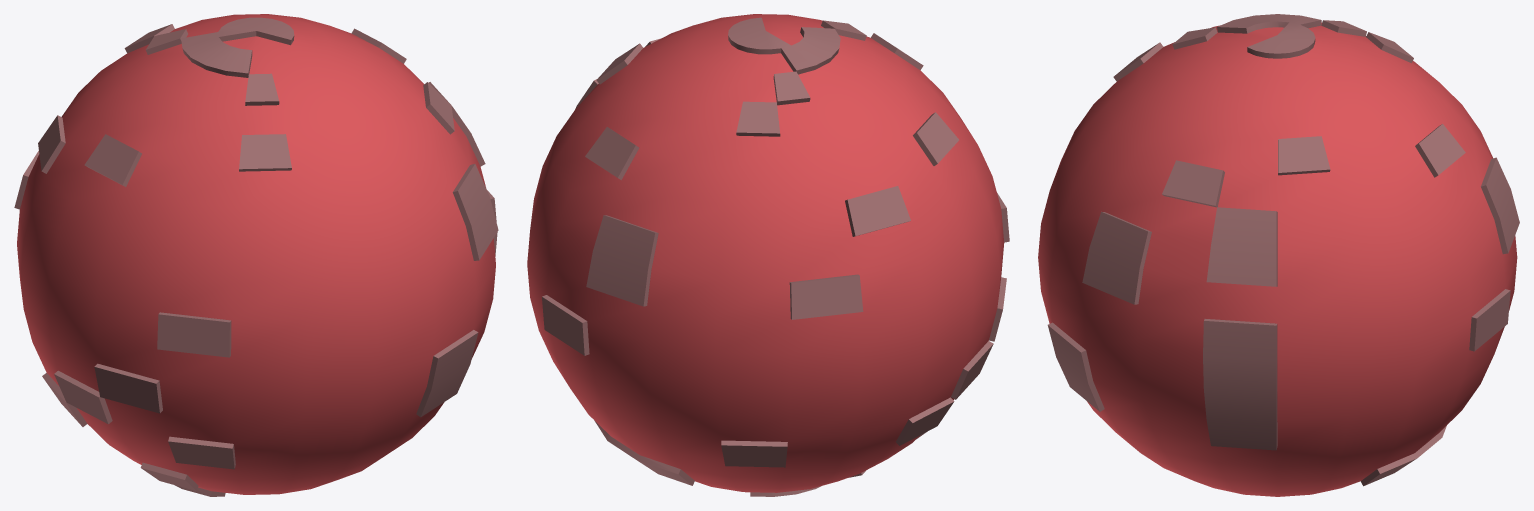
Rendered from Upper_Mantle_Icon_v01.fbx.
3 renders of one model, left to right at view 1: azimuth 30°, elevation 25°; view 2: azimuth 150°, elevation 25°; view 3: azimuth 270°, elevation 25°, orthographic.
Visible parts, largest first — view 1: Up_mantle_1; view 2: Up_mantle_1; view 3: Up_mantle_1.
Boxes of the visible parts, <box> form: Up_mantle_1: <box>14,14,498,496</box>; Up_mantle_1: <box>527,14,1009,496</box>; Up_mantle_1: <box>1038,14,1519,496</box>.
Size of the model in its own units: 2.02 by 2.04 by 2.01.
